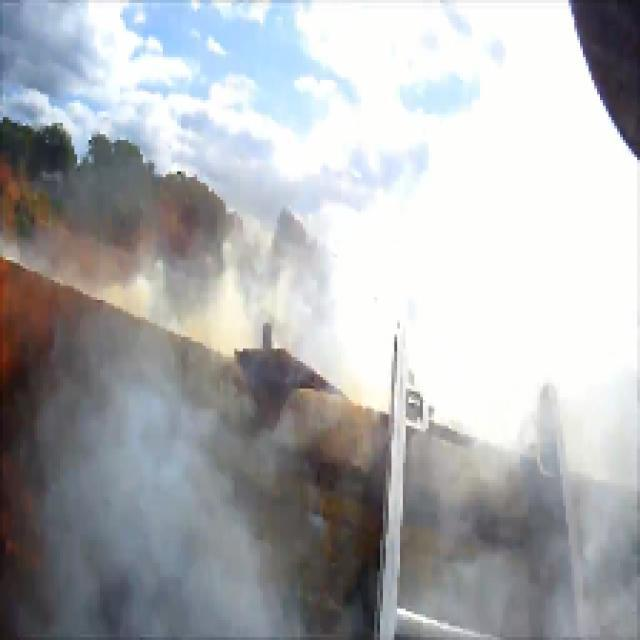Smoke: (27, 372, 228, 634), (428, 456, 636, 630)
